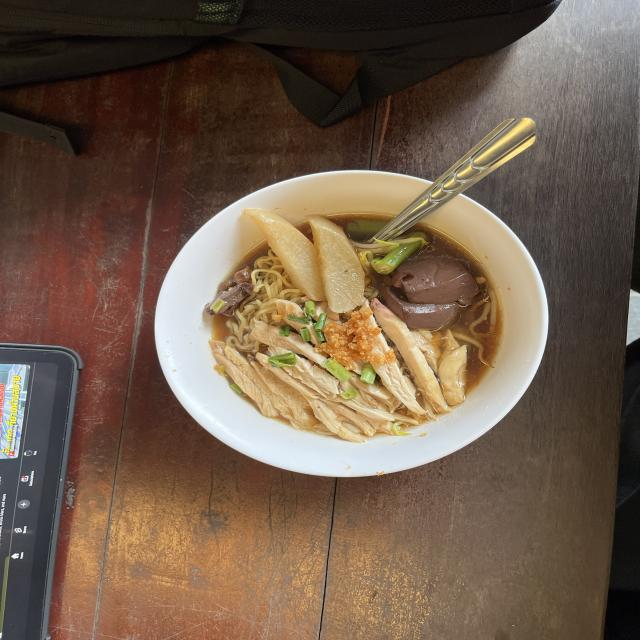noodle: (200, 198, 521, 450)
